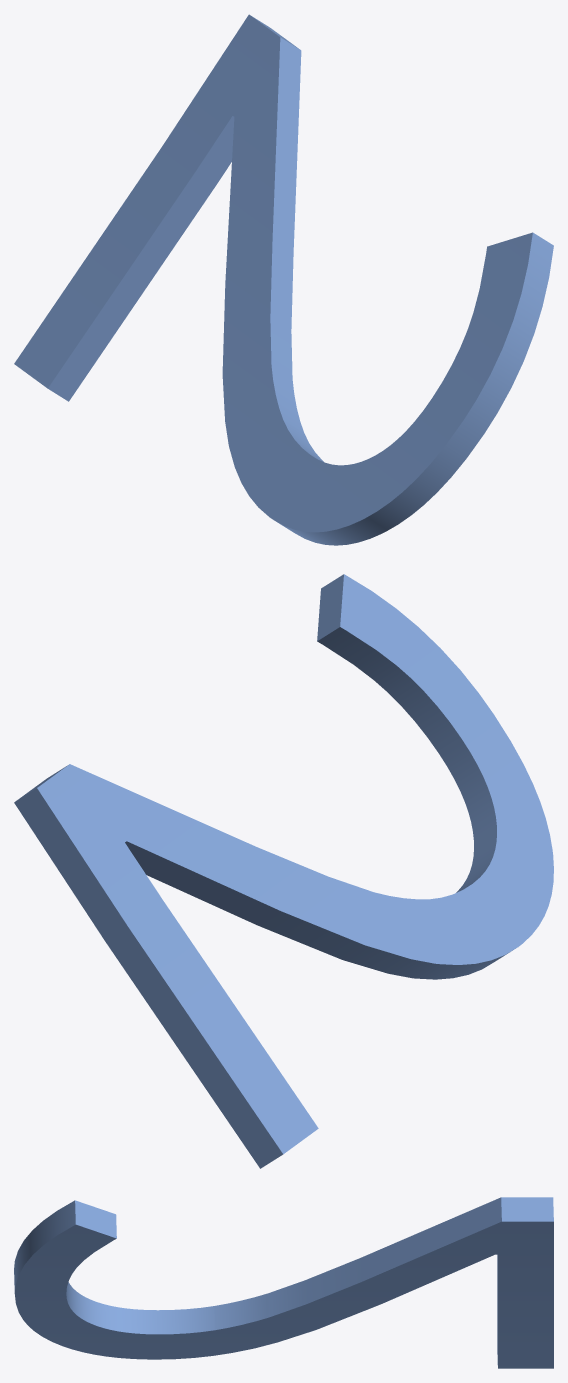
Rendered from New_Number_2.gltf.
3 renders of one model, top to bottom at view 1: azimuth 30°, elevation 25°; view 2: azimuth 150°, elevation 25°; view 3: azimuth 270°, elevation 25°, orthographic. The views are drawn at different scales.
Parts seen in each view (by area): view 1: Part 272; view 2: Part 272; view 3: Part 272.
Boxes of the visible parts, x1,y1,x2,y2 form: Part 272: [14, 14, 553, 545]; Part 272: [14, 574, 553, 1168]; Part 272: [14, 1197, 553, 1368].
Bounding box in the file's own units: 0.00233 × 0.0027 × 0.00512.
